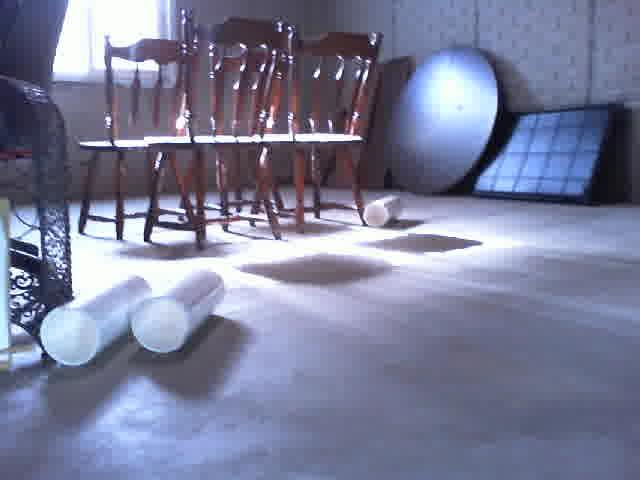coral: (39, 271, 150, 368), (125, 265, 228, 357), (360, 190, 404, 230)
